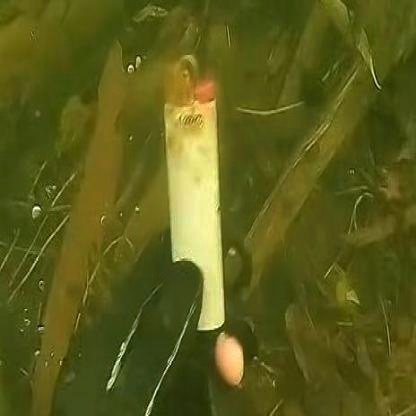misc: (166, 75, 239, 344)
